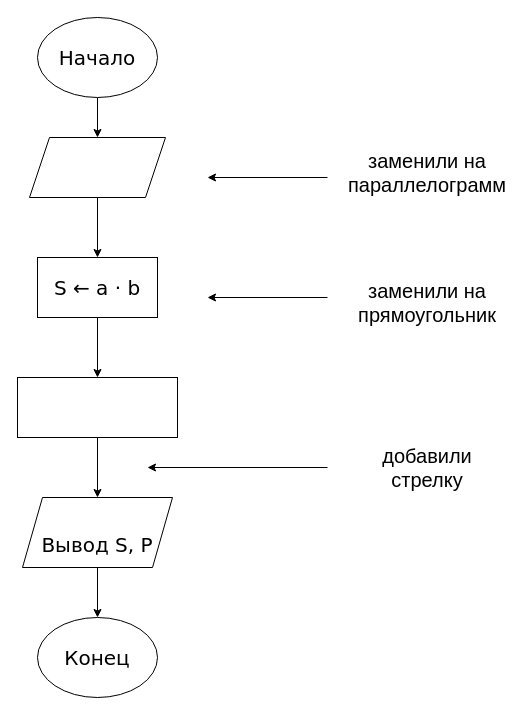
This 525x715 diagram has some shape labels left out. Each missing label, with the centre of its shape:
P ← 2 · (a + b): (x=97, y=407)
Ввод a, b: (x=97, y=167)
